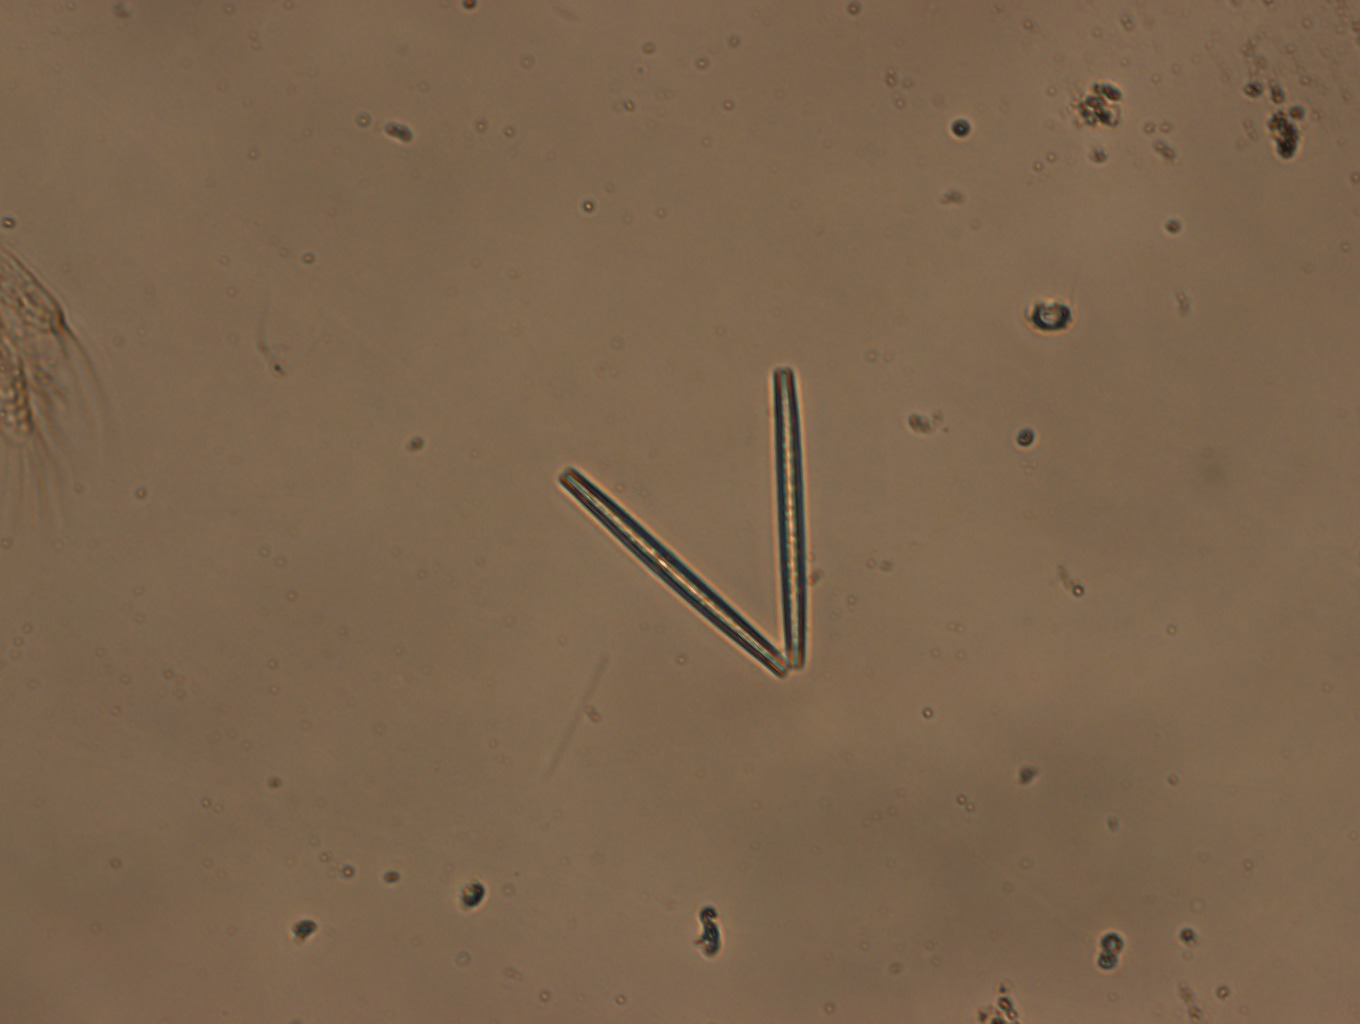thalassionema nitzschioides: (556, 365, 810, 680)
